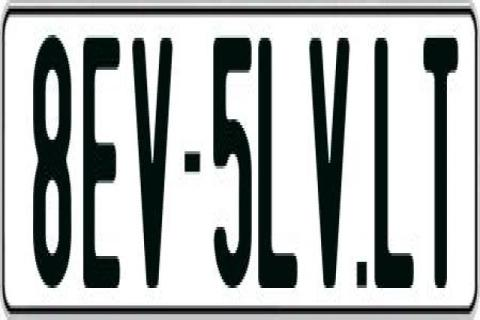0: (30, 29, 74, 288), (212, 29, 253, 294)
E: (83, 35, 121, 297)
L: (374, 35, 420, 285), (255, 38, 294, 297)
T: (424, 38, 460, 306)
V: (307, 35, 351, 294), (133, 38, 173, 300)
